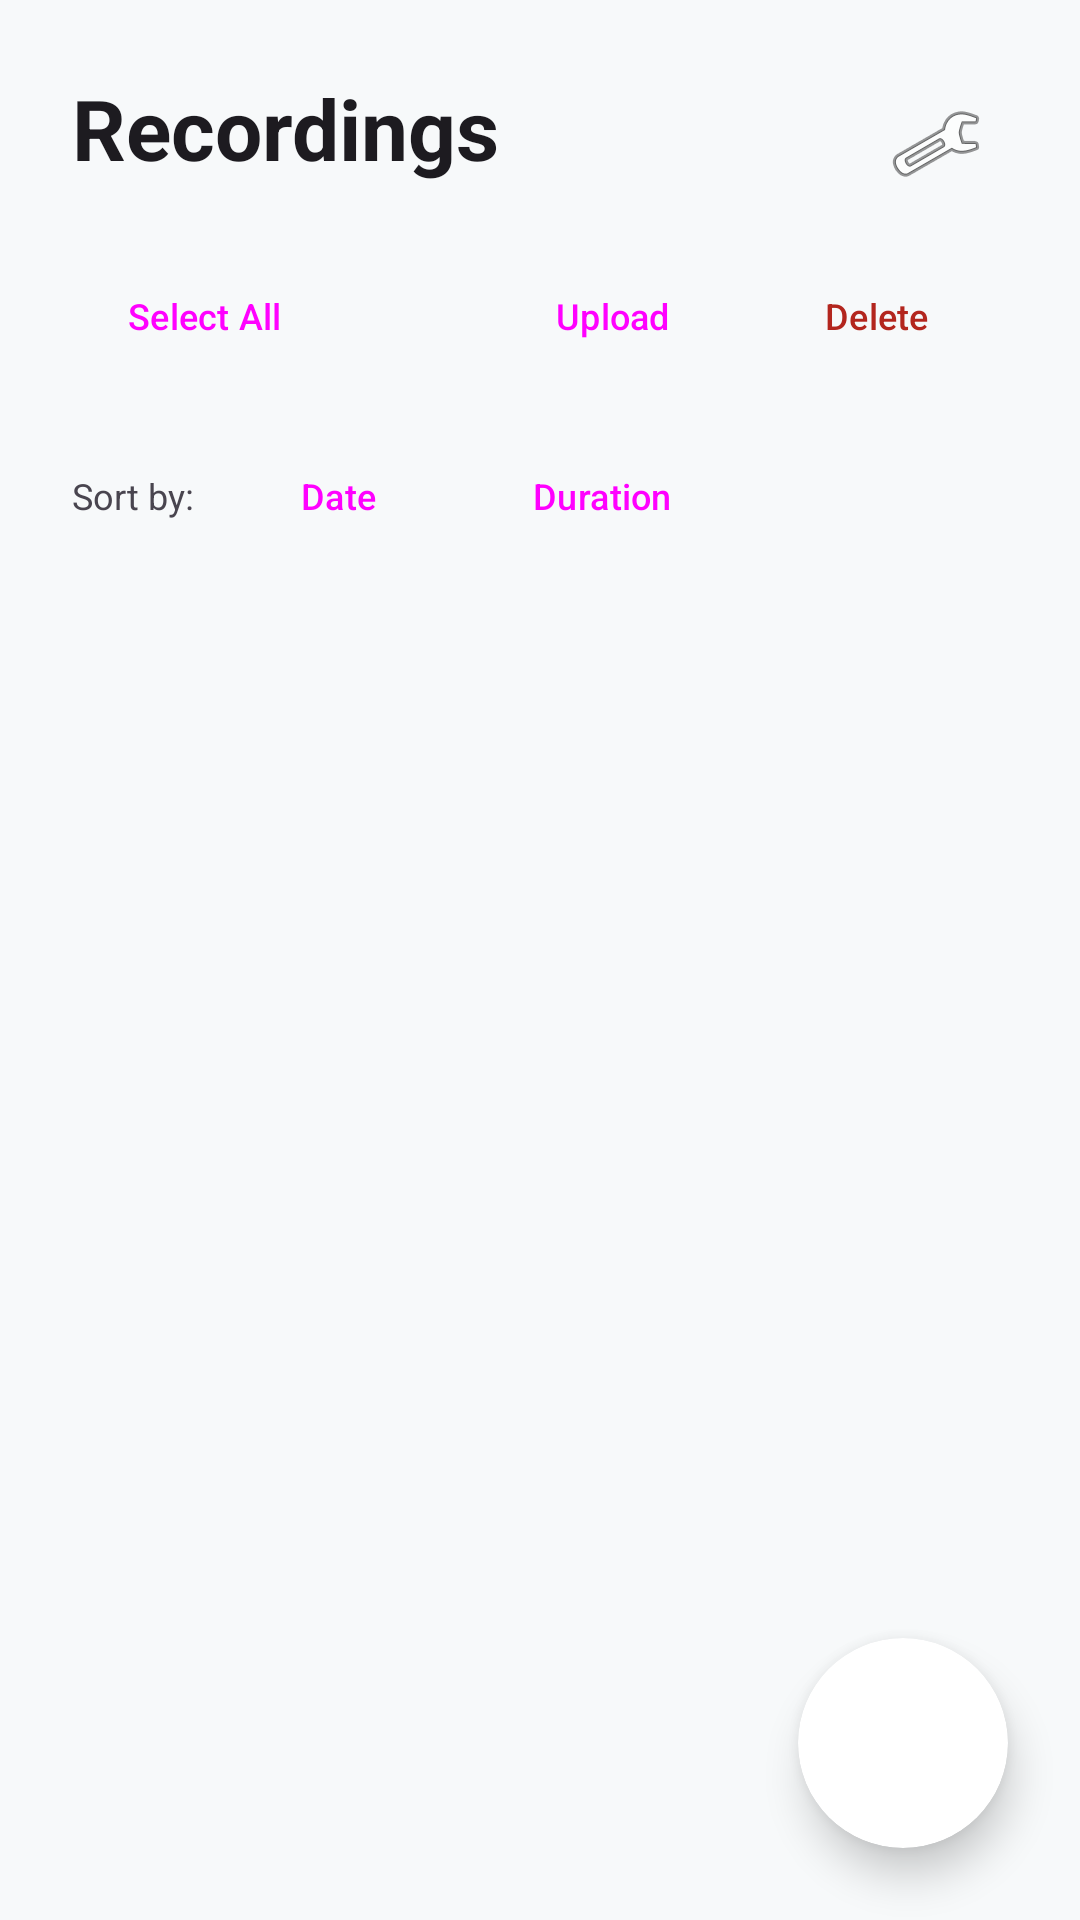

Screen size 1080*1920. Icon name, then its center in pixels as [x,y]:
Settings: [936,144]
